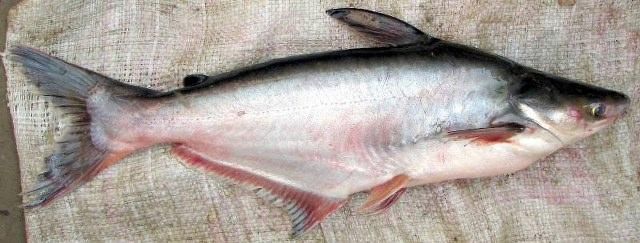Mulut: (578, 88, 640, 136)
Sirip Anal: (158, 137, 354, 243)
Sirip Dada: (426, 105, 536, 152), (359, 170, 417, 222)
Sirip Ekor: (5, 36, 125, 214)
Sirip Punggung: (308, 0, 435, 52)
